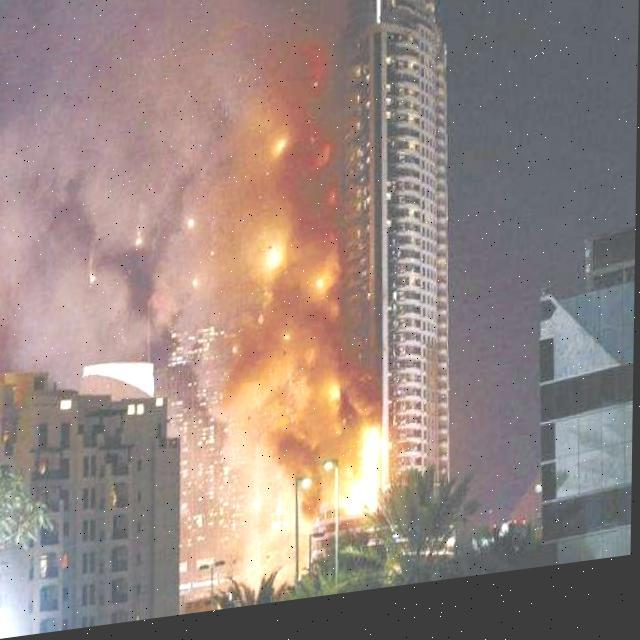Fire: (226, 73, 388, 536)
